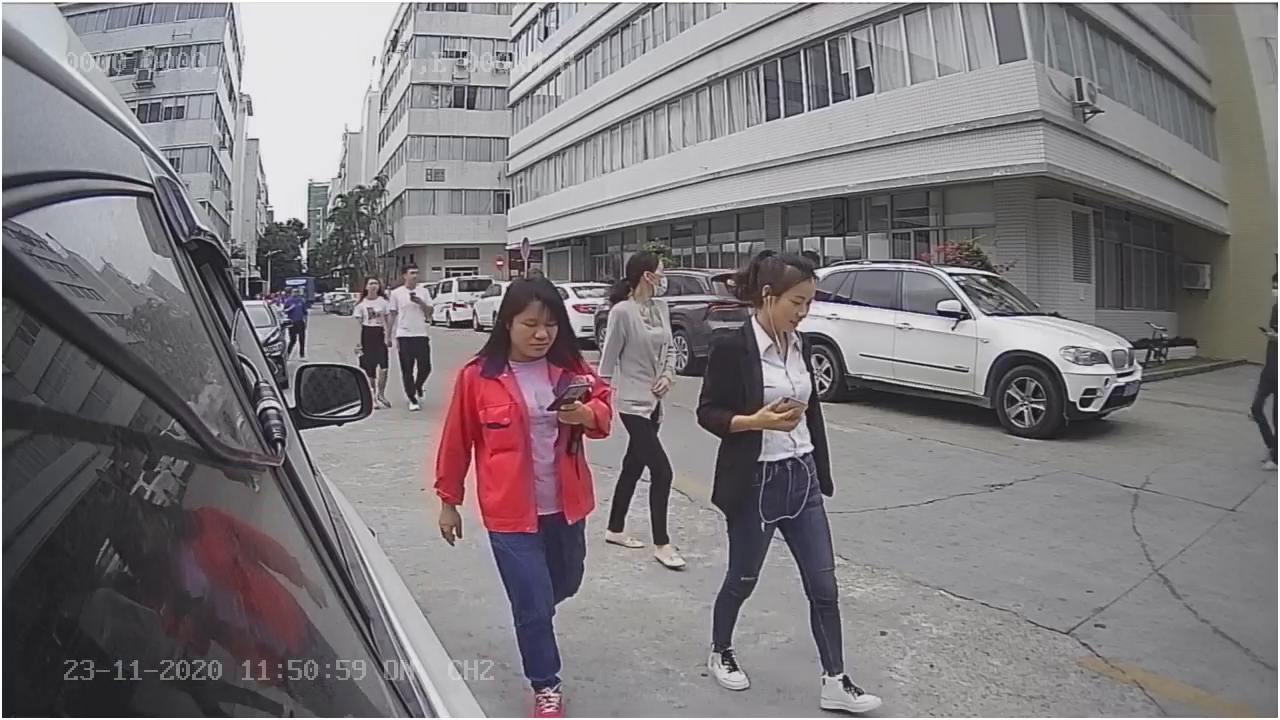person: (696, 244, 883, 715), (437, 244, 618, 546)
